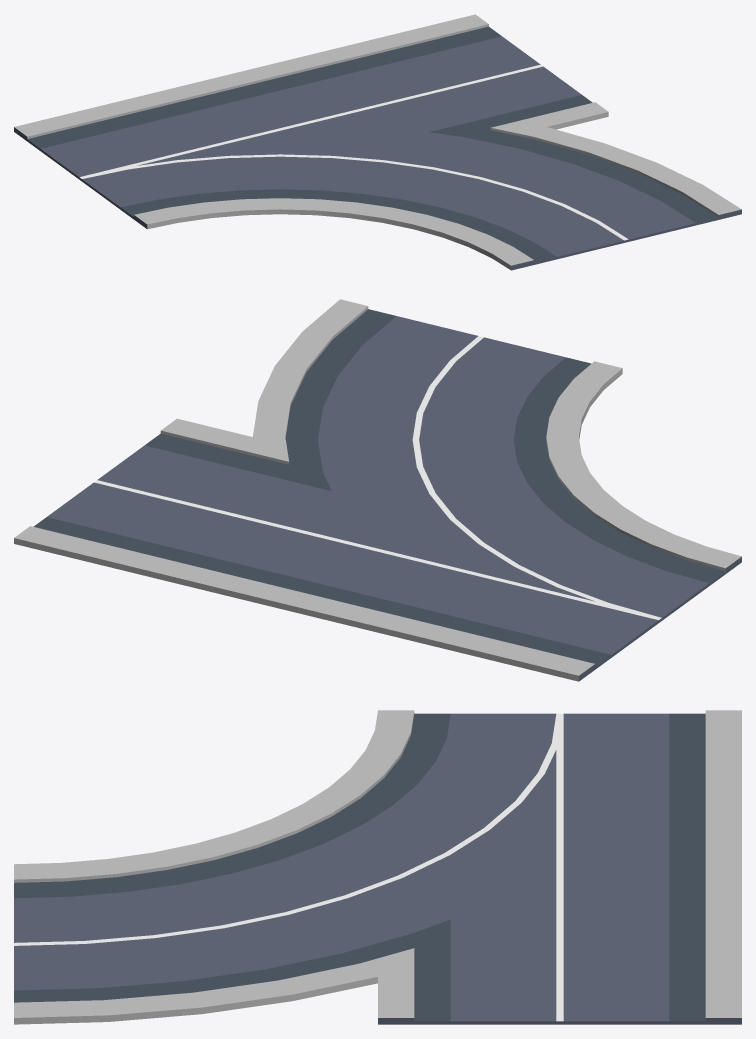
The model's file is SM_Road_Curve_Intersection.fbx.
3 views of the same model, one above another, from view 1: azimuth 30°, elevation 25°; view 2: azimuth 150°, elevation 25°; view 3: azimuth 270°, elevation 25° (orthographic). The views are drawn at different scales.
Parts seen in each view (by area): view 1: SM_Road_Curve_Intersection; view 2: SM_Road_Curve_Intersection; view 3: SM_Road_Curve_Intersection.
Part boxes in pixels (bbox=[...]): SM_Road_Curve_Intersection: bbox=[14, 14, 741, 270]; SM_Road_Curve_Intersection: bbox=[14, 299, 741, 681]; SM_Road_Curve_Intersection: bbox=[14, 710, 741, 1024].
Bounding box in the file's own units: 2000 × 20 × 2000.
